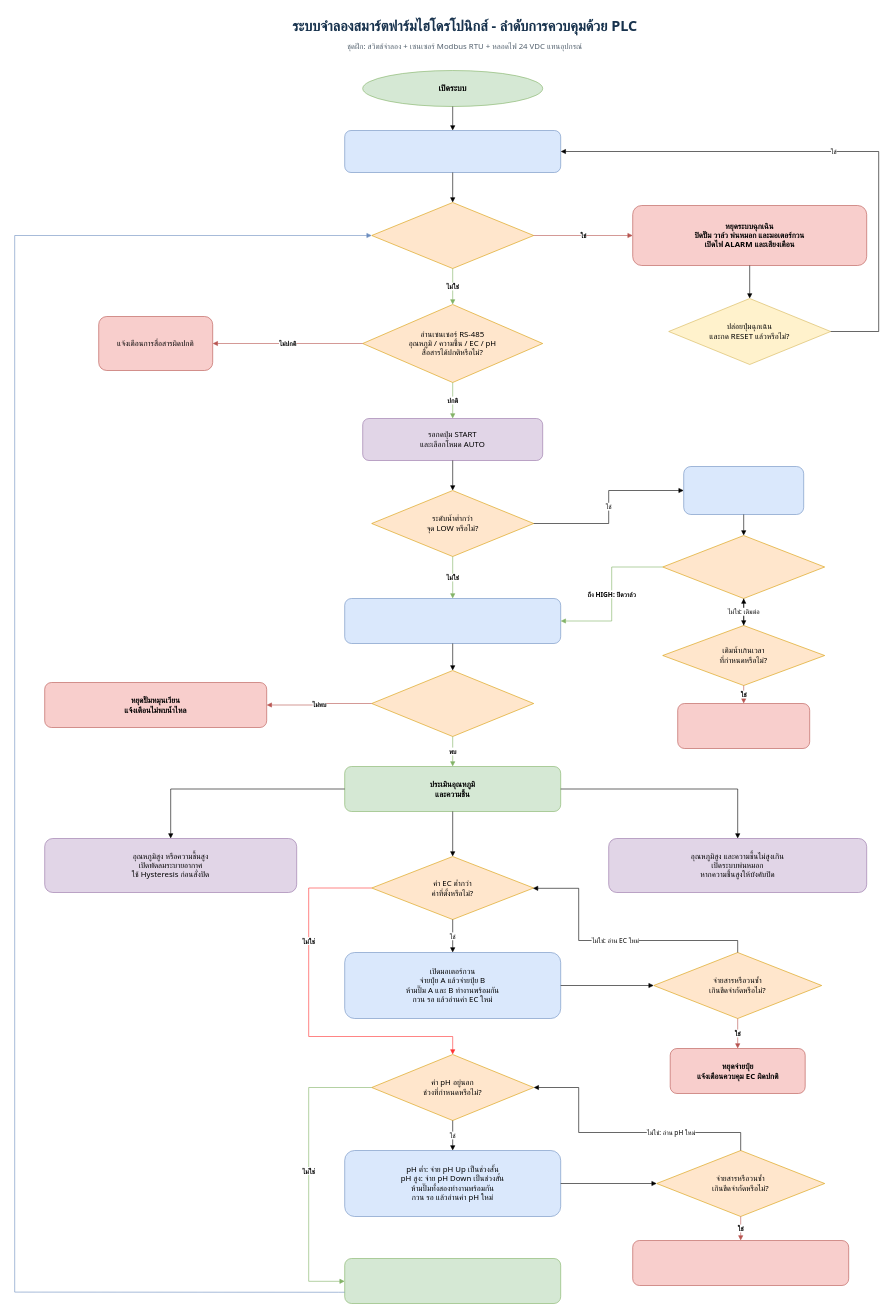
The diagram is 894 pixels wide and 1314 high, and some of its shapes have lost their labels. Here are the shapes that lost their labels. From the top down, the centre of each, then its label:
At (452,151): "เริ่มต้นการทำงานของ PLC ปิดเอาต์พุตควบคุมทั้งหมด".
At (452,235): "กดปุ่มหยุดฉุกเฉิน หรือไม่?".
At (743,490): "หยุดปั๊มหมุนเวียนและการจ่ายสาร เปิดวาล์วเติมน้ำ".
At (743,566): "น้ำถึงระดับ HIGH หรือยัง?".
At (452,621): "เปิดปั๊มหมุนเวียน ตามรอบเวลา AUTO".
At (452,703): "ตรวจพบน้ำไหล ภายในเวลาที่กำหนดหรือไม่?".
At (743,725): "ปิดวาล์วเติมน้ำ แจ้งเตือนเติมน้ำเกินเวลา".
At (452,1281): "อัปเดตไฟ RUN / ALARM แล้วเริ่มรอบสแกนถัดไป".
At (740,1263): "หยุดจ่ายสารปรับ pH แจ้งเตือนควบคุม pH ผิดปกติ".
